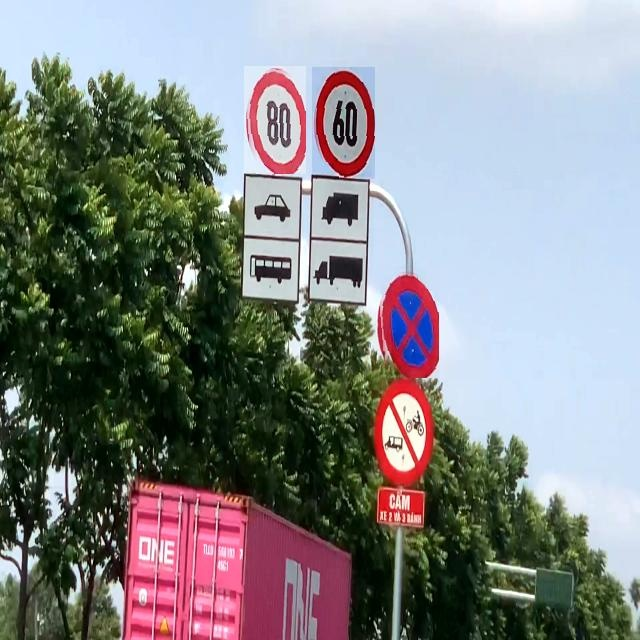bien_cam: (376, 266, 439, 378), (312, 67, 375, 179), (244, 66, 306, 174)
